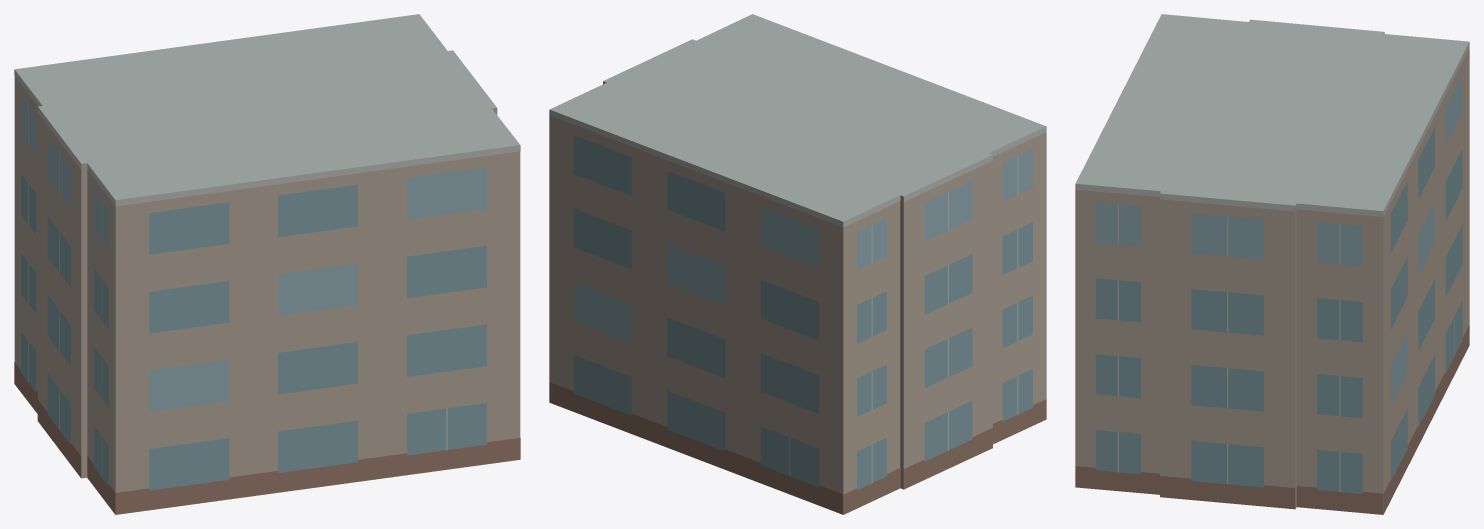
The model's file is survey-upis-32844999.glb.
The picture shows the model from 3 angles, left to right: view 1: azimuth 30°, elevation 25°; view 2: azimuth 150°, elevation 25°; view 3: azimuth 270°, elevation 25°; orthographic projection. The views are drawn at different scales.
Visible parts, largest first — view 1: survey-upis-32844999.tmp; view 2: survey-upis-32844999.tmp; view 3: survey-upis-32844999.tmp.
Boxes of the visible parts, x1=… form: survey-upis-32844999.tmp: x1=14, y1=14, x2=520, y2=514; survey-upis-32844999.tmp: x1=549, y1=14, x2=1046, y2=514; survey-upis-32844999.tmp: x1=1075, y1=14, x2=1469, y2=514.
Size of the model in its own units: 17.46 by 12.53 by 14.75.
